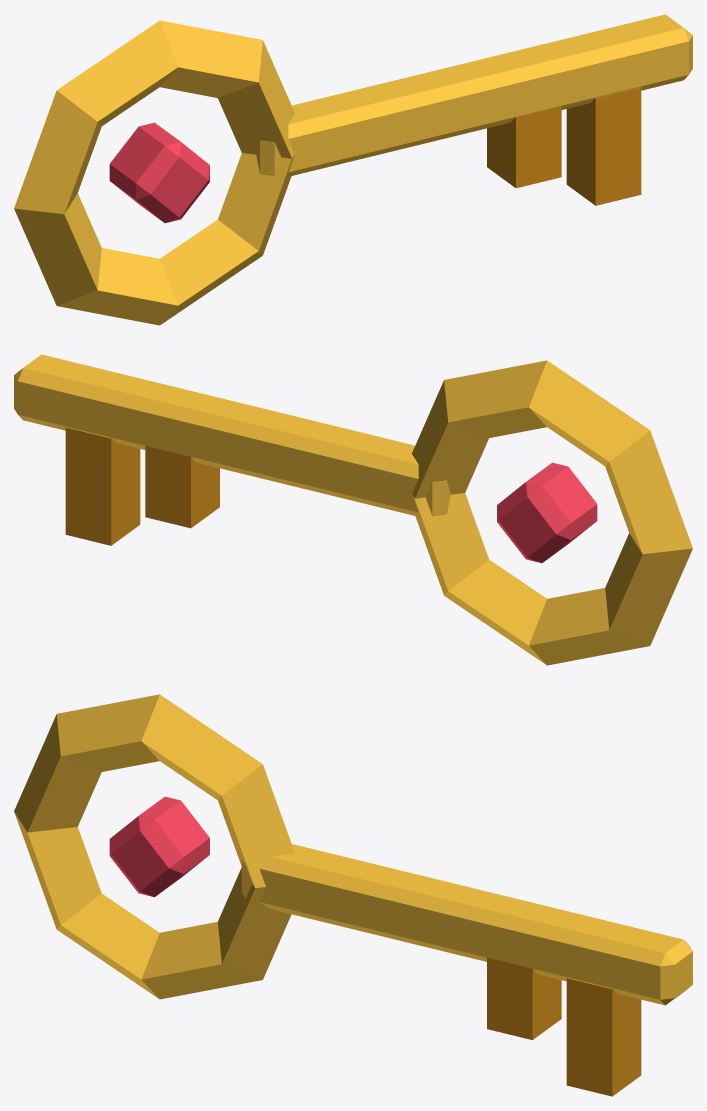
Rendered from GoldKey.fbx.
3 renders of one model, top to bottom at view 1: azimuth 30°, elevation 25°; view 2: azimuth 150°, elevation 25°; view 3: azimuth 330°, elevation 25°, orthographic.
Visible parts, largest first — view 1: GoldKey; view 2: GoldKey; view 3: GoldKey.
Boxes of the visible parts, box(x1,y1,x2,y2) form: GoldKey: box(14, 14, 692, 325); GoldKey: box(14, 354, 692, 665); GoldKey: box(14, 694, 692, 1096).
Bounding box in the file's own units: 2.94 × 1.28 × 0.3.
Materials: 1 (1 with a texture image).
